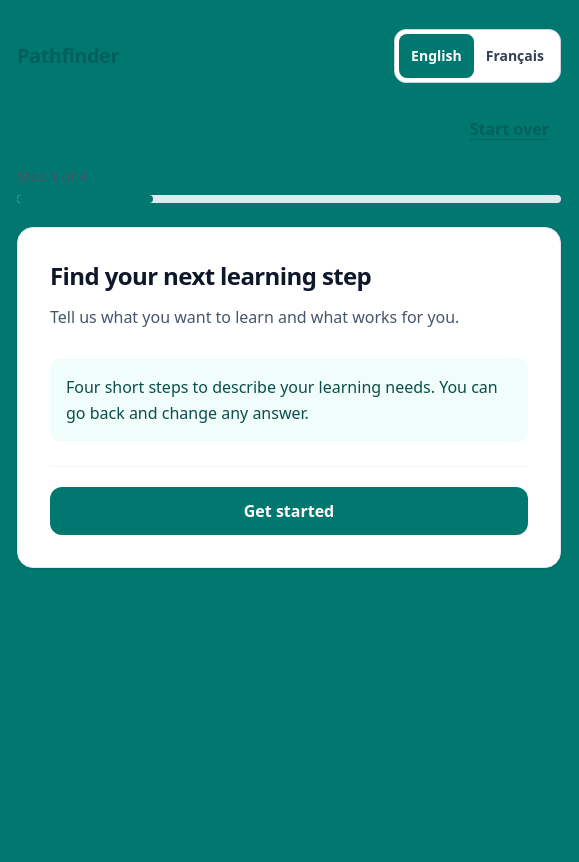
does not claim a successful save if localStorage fails
Click the button "Get started" at [289, 511], box [50,487,528,535]
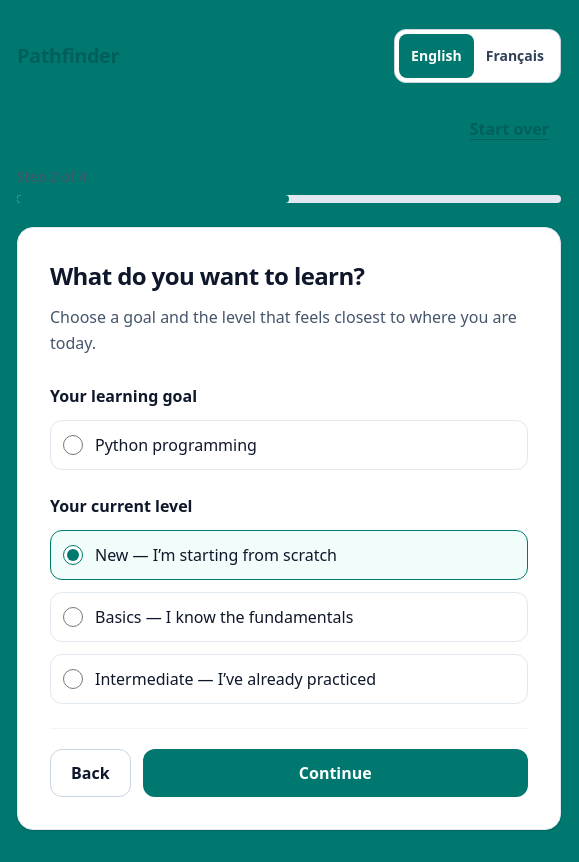
Click the radio button labelled "Python programming" at [73, 445], box [63,435,83,455]
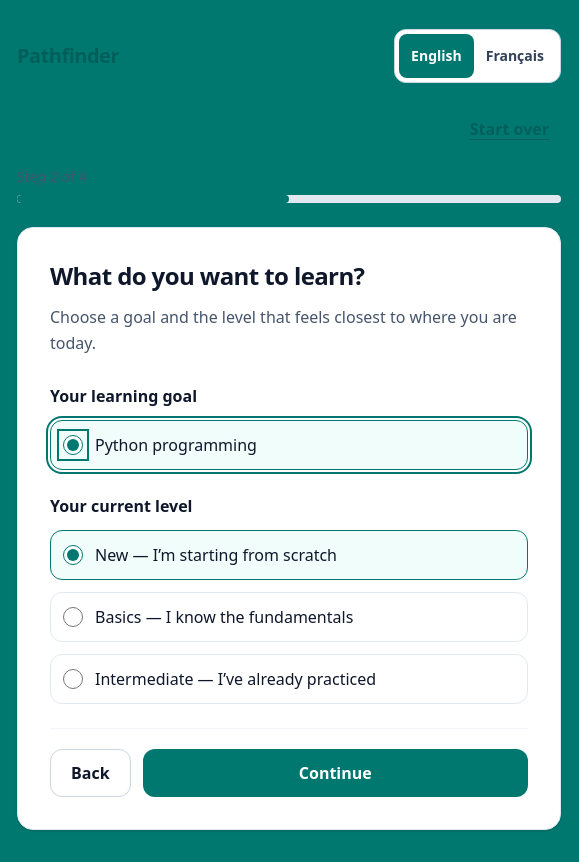
Click the button "Continue" at [335, 773], box [143,749,528,797]
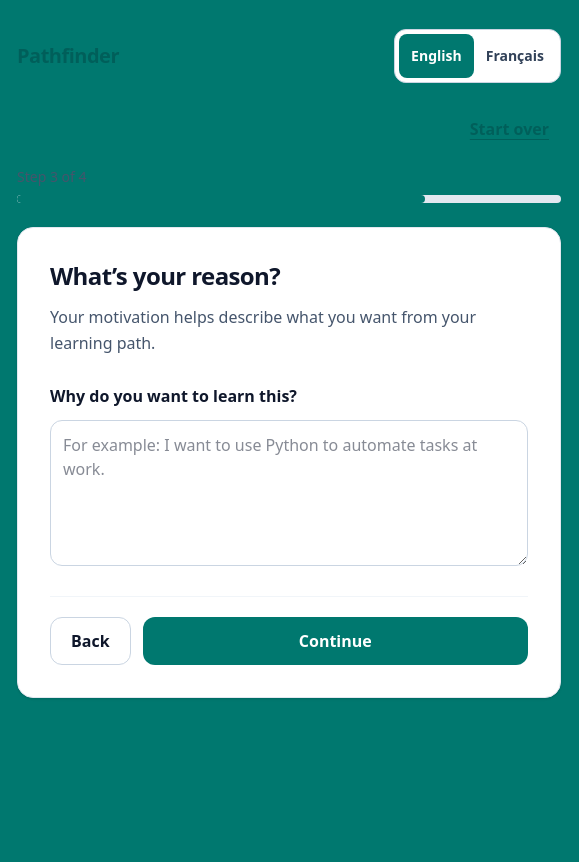
Type "Build useful tools" into the text box at [289, 493], box [50,420,528,566]
Click the button "Continue" at [335, 641], box [143,617,528,665]
(page scrolled)
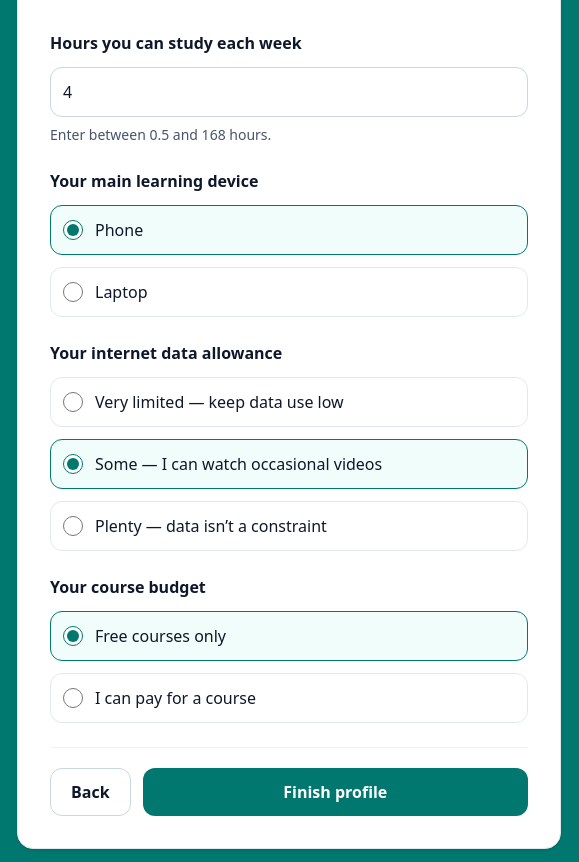
Click the button "Finish profile" at [335, 792], box [143,768,528,816]
(page scrolled)
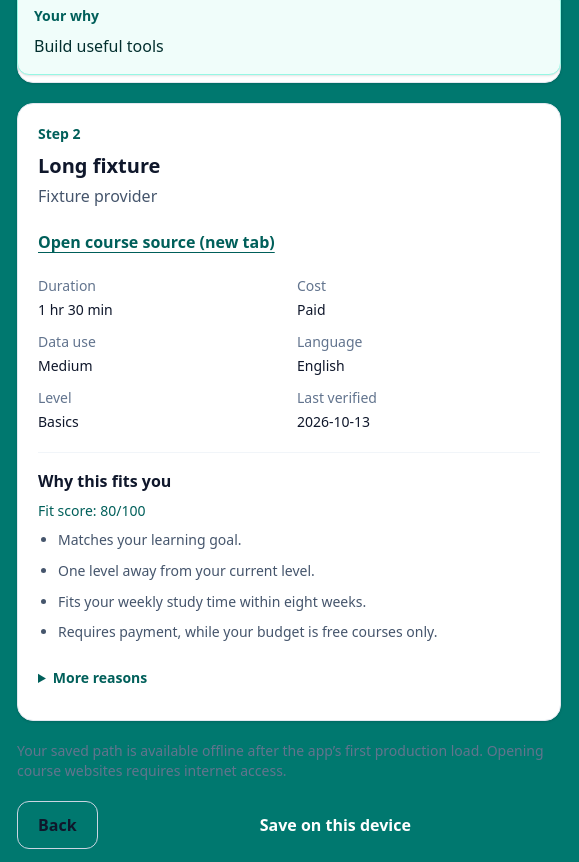
Click the button "Save on this device" at [335, 825], box [110,801,561,849]
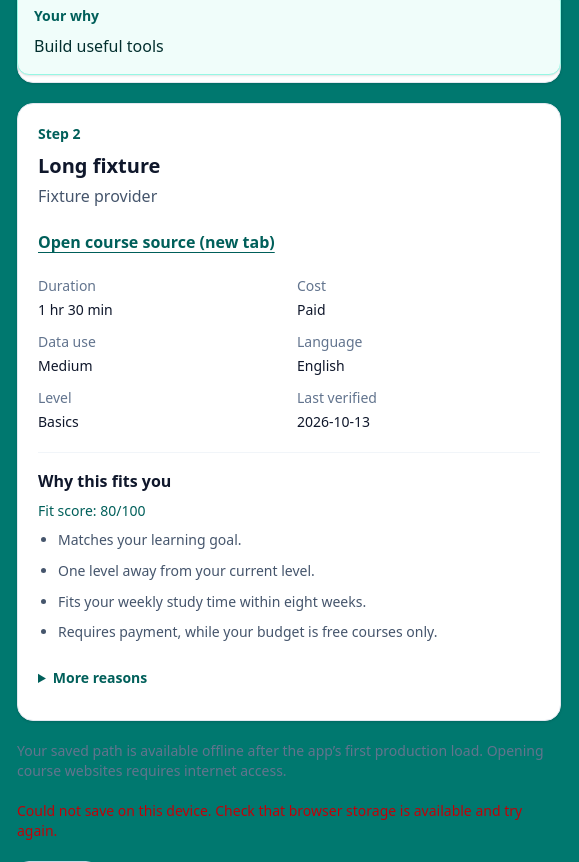
Expected: the message shows "Could not save on this device. Check that browser storage is available and try again.", [17,801,522,840]
